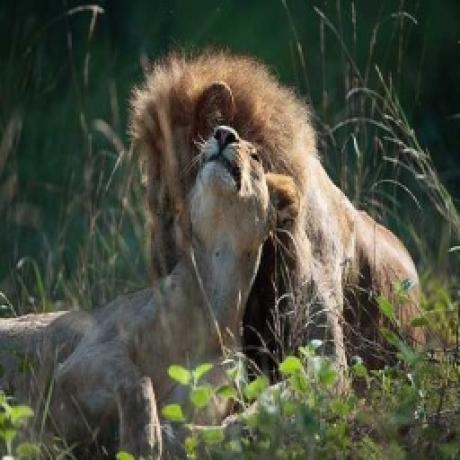Lion: (0, 120, 302, 460), (136, 41, 434, 369)
